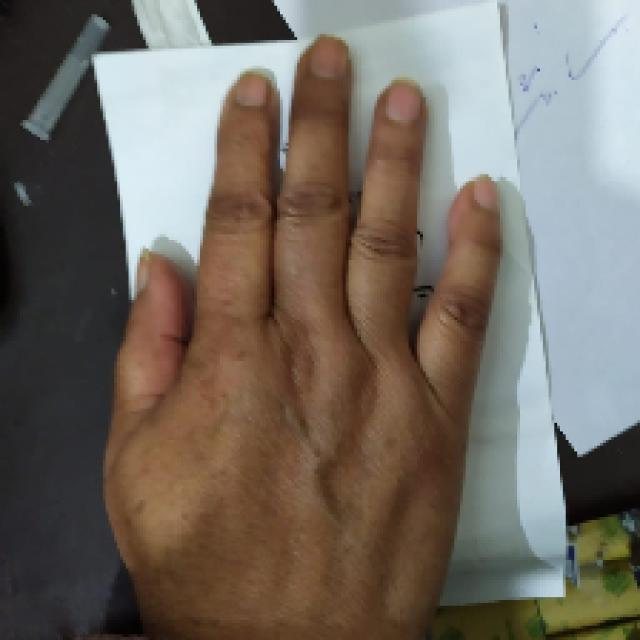Nail: (309, 38, 350, 79), (385, 81, 420, 122), (234, 72, 270, 106), (474, 176, 498, 212), (136, 250, 152, 299)
